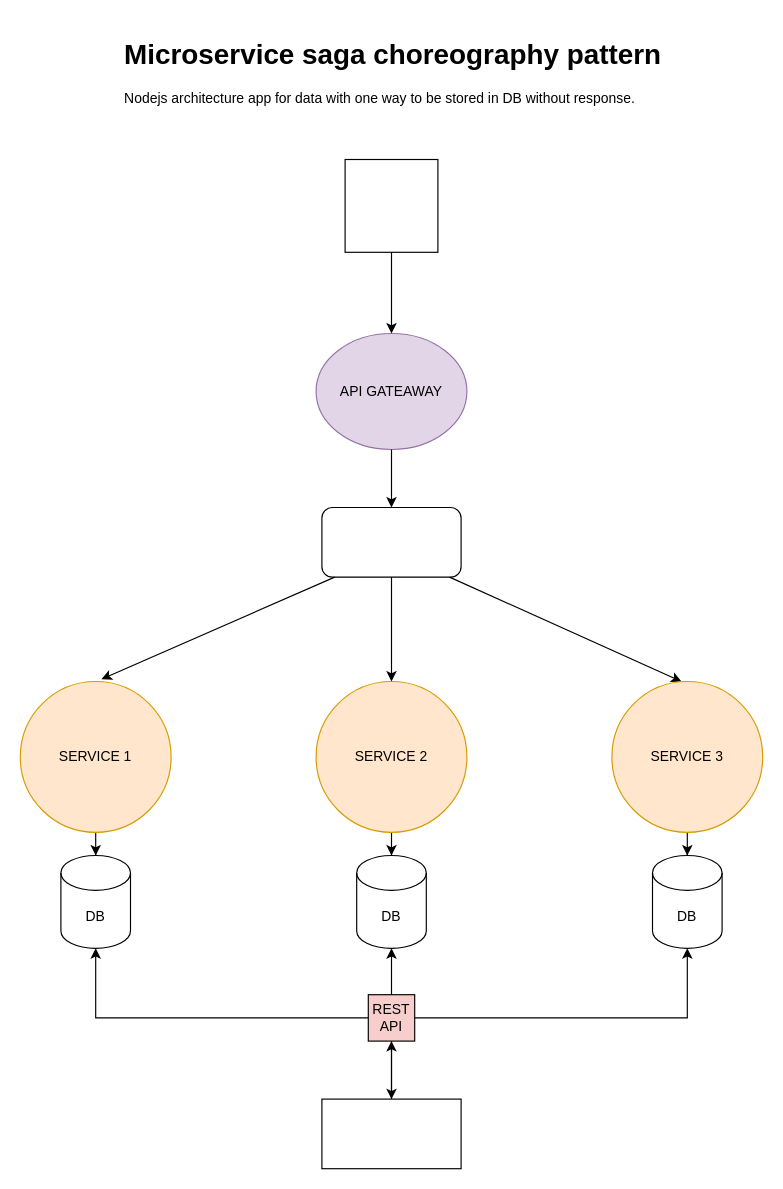
Image size: 783x1189. Some labels were removed from this diagram. Each missing label, with the centre of its shape:
"APP" belongs at point (391, 205).
"EVENT CHANNEL" belongs at point (391, 541).
"WEB APP" belongs at point (391, 1133).
